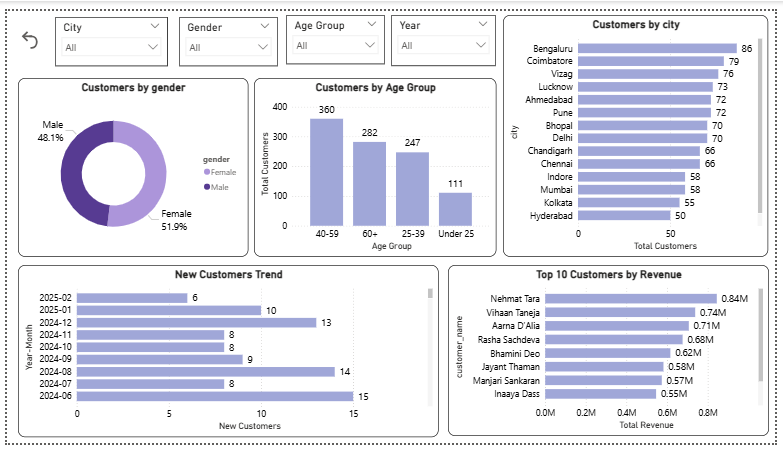

The page's visual inventory and layout, read from the dashboard file:
{"tool":"powerbi","page":{"name":"Customer Insights","canvas":[1280,720],"ordinal":1},"visuals":[{"type":"clusteredBarChart","title":"Customers by city","fields":{"Y":["customers.Total Customers"],"Category":["customers.city"]},"box":[827.3,7.3,442.3,402.6],"z":0},{"type":"donutChart","title":"Customers by gender","fields":{"Category":["customers.gender"],"Y":["customers.Total Customers"]},"box":[17.6,111.7,383.5,298.3],"z":1000},{"type":"clusteredColumnChart","title":"Customers by Age Group","fields":{"Category":["customers.Age Group"],"Y":["customers.Total Customers"]},"box":[411.4,111.7,404.1,298.3],"z":2000},{"type":"clusteredBarChart","title":"Top 10 Customers by Revenue","fields":{"Category":["customers.customer_name"],"Y":["transactions.Total Revenue"]},"box":[734.7,423.2,534.9,285.1],"z":3000},{"type":"clusteredBarChart","title":"New Customers Trend","fields":{"Y":["customers.New Customers"],"Category":["date.Year-Month"]},"box":[17.6,423.2,700.9,286.5],"z":4000},{"type":"slicer","fields":{"Values":["branches.city"]},"box":[79.3,10.3,188.1,82.3],"z":5000},{"type":"slicer","fields":{"Values":["customers.gender"]},"box":[286.5,10.3,164.6,82.3],"z":6000},{"type":"slicer","fields":{"Values":["customers.Age Group"]},"box":[464.3,7.3,164.6,82.3],"z":7000},{"type":"slicer","fields":{"Values":["date.Year"]},"box":[640.7,7.3,174.9,85.2],"z":8000},{"type":"actionButton","box":[17.6,27.9,44.1,39.7],"z":9000}]}

Visuals, with their boxes in screenshot pixels (x1, y1, x2, y2), scaled from the page's 1280x720 canvas onto the 783x451 screenshot:
"Customers by city" clusteredBarChart: box(506, 5, 777, 257)
"Customers by gender" donutChart: box(11, 70, 245, 257)
"Customers by Age Group" clusteredColumnChart: box(252, 70, 499, 257)
"Top 10 Customers by Revenue" clusteredBarChart: box(449, 265, 777, 444)
"New Customers Trend" clusteredBarChart: box(11, 265, 440, 445)
slicer - branches.city: box(49, 6, 164, 58)
slicer - customers.gender: box(175, 6, 276, 58)
slicer - customers.Age Group: box(284, 5, 385, 56)
slicer - date.Year: box(392, 5, 499, 58)
actionButton: box(11, 17, 38, 42)
